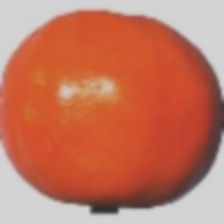tangerine: (39, 35, 197, 195)
